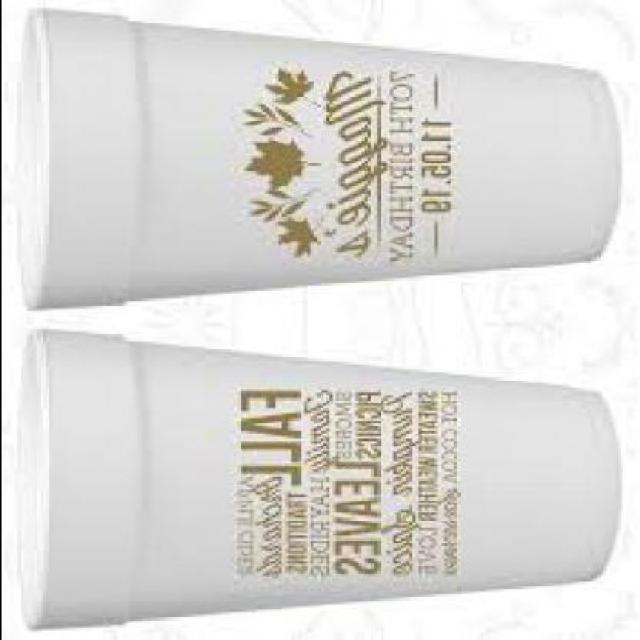PAPER: (13, 326, 615, 628), (16, 5, 618, 306)
